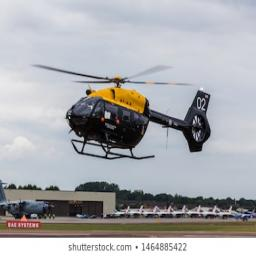helicopter: (32, 62, 218, 161)
